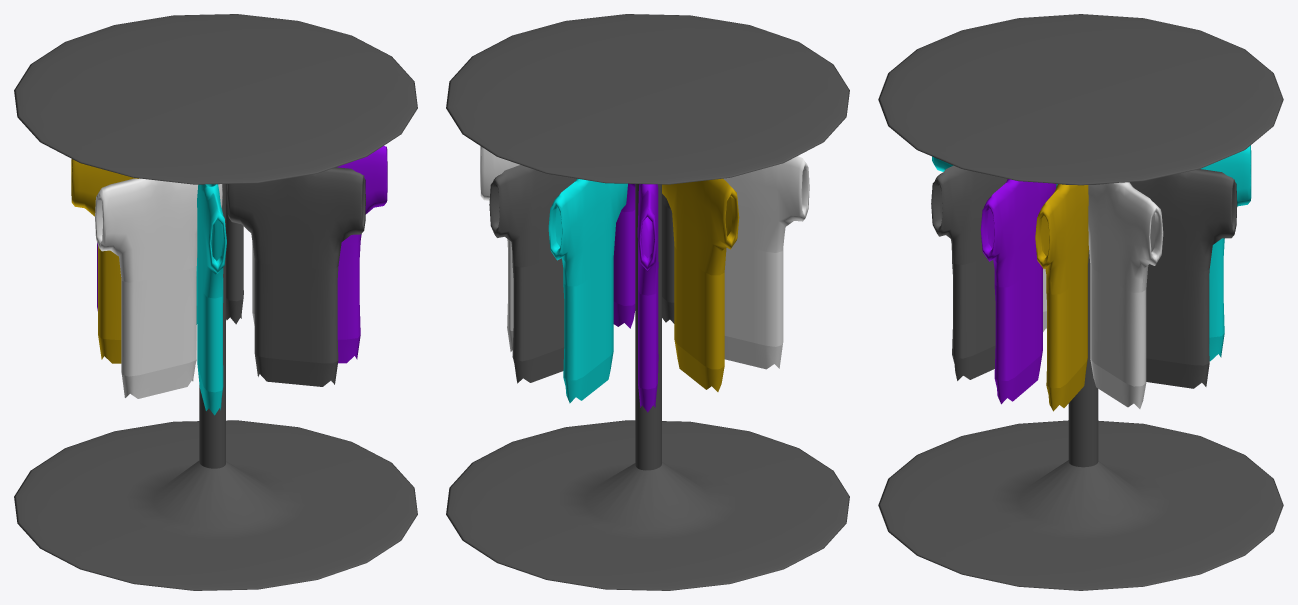
The model's file is ClothesRack.fbx.
3 views of the same model, side by side, from view 1: azimuth 30°, elevation 25°; view 2: azimuth 150°, elevation 25°; view 3: azimuth 270°, elevation 25° (orthographic).
Visible parts, largest first — view 1: shirt22; view 2: shirt22; view 3: shirt22.
Boxes of the visible parts, box(x1,y1,x2,y2) form: shirt22: box(14, 14, 417, 590); shirt22: box(446, 14, 849, 590); shirt22: box(878, 14, 1283, 590).
Size of the model in its own units: 2 by 2.26 by 2.
